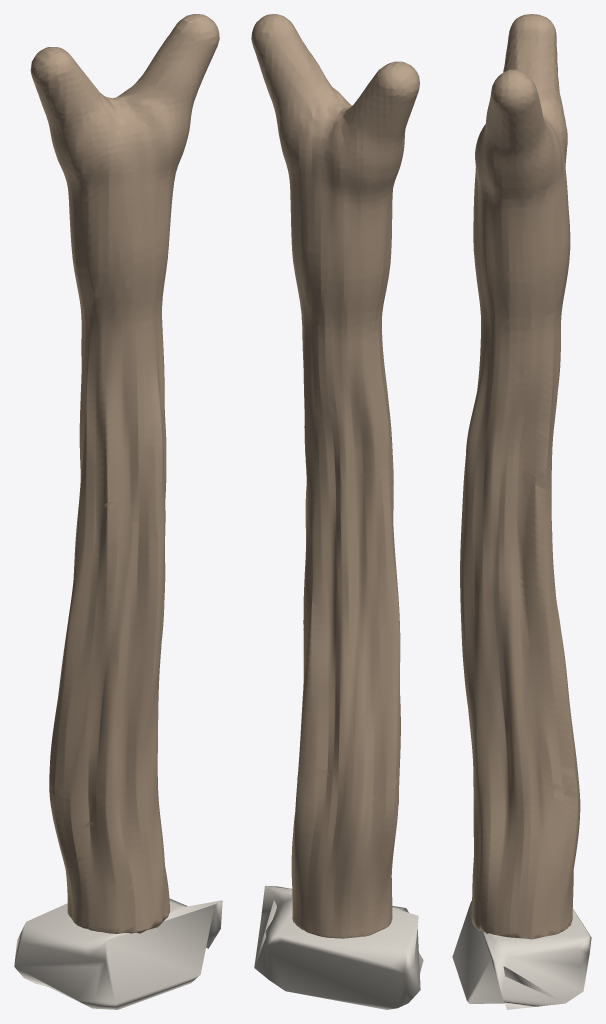
File: bagana-f1-3x12-v2.glb
3 views of the same model, side by side, from view 1: azimuth 30°, elevation 25°; view 2: azimuth 150°, elevation 25°; view 3: azimuth 270°, elevation 25° (orthographic).
Visible parts, largest first — view 1: bagana_wood, bagana_stone; view 2: bagana_wood, bagana_stone; view 3: bagana_wood, bagana_stone.
Part boxes in pixels (bbox=[...]): bagana_wood: bbox=[30, 14, 219, 933]; bagana_stone: bbox=[14, 898, 222, 1009]; bagana_wood: bbox=[251, 14, 419, 938]; bagana_stone: bbox=[254, 885, 423, 1009]; bagana_wood: bbox=[460, 14, 580, 939]; bagana_stone: bbox=[452, 901, 591, 1009].
Bounding box in the file's own units: 0.6597 × 3.25 × 0.4309.
